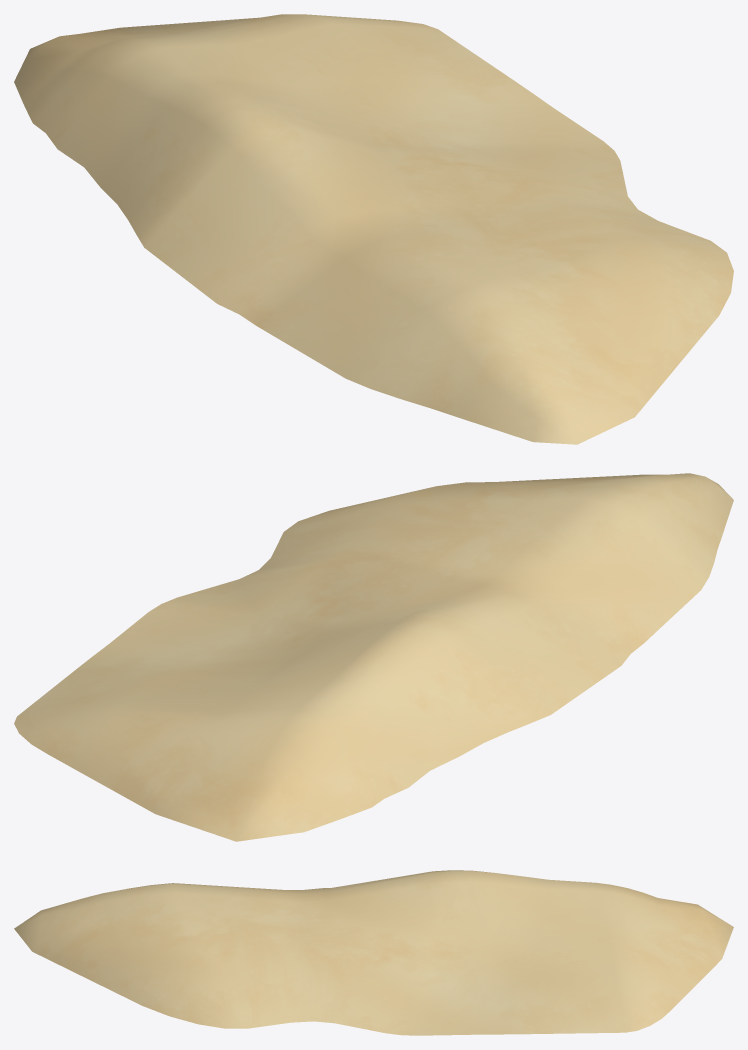
File: sand_pile_01a.fbx
The picture shows the model from 3 angles, top to bottom: view 1: azimuth 30°, elevation 25°; view 2: azimuth 150°, elevation 25°; view 3: azimuth 270°, elevation 25°; orthographic projection. The views are drawn at different scales.
Visible parts, largest first — view 1: sand_pile_01a; view 2: sand_pile_01a; view 3: sand_pile_01a.
Boxes of the visible parts, x1,y1,x2,y2 form: sand_pile_01a: [14, 14, 733, 444]; sand_pile_01a: [14, 473, 733, 841]; sand_pile_01a: [14, 870, 733, 1035].
Size of the model in its own units: 88.38 by 182 by 15.85.
Materials: 1 (1 with a texture image).
